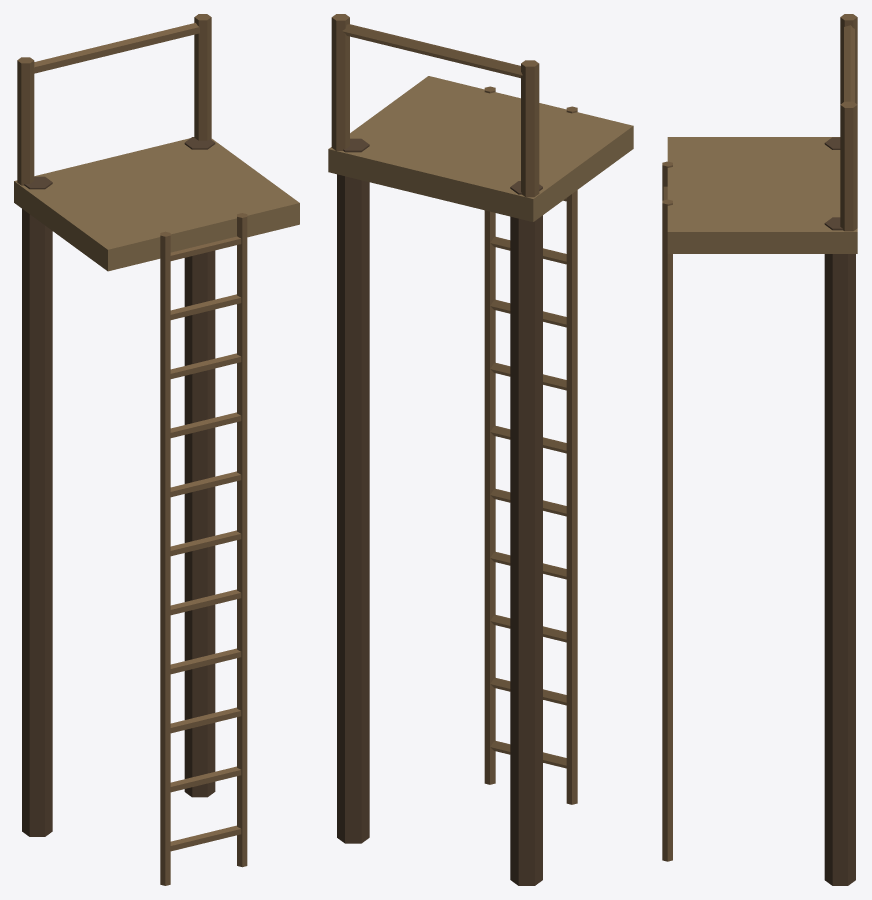
Rendered from K_LadderRun.glb.
3 renders of one model, left to right at view 1: azimuth 30°, elevation 25°; view 2: azimuth 150°, elevation 25°; view 3: azimuth 270°, elevation 25°, orthographic. The views are drawn at different scales.
Parts seen in each view (by area): view 1: K_LadderRun; view 2: K_LadderRun; view 3: K_LadderRun.
Part boxes in pixels (x1,y1,x2,y2): K_LadderRun: [14, 14, 299, 885]; K_LadderRun: [328, 14, 633, 885]; K_LadderRun: [662, 14, 857, 885].
Bounding box in the file's own units: 1.3 × 4.98 × 1.13.
